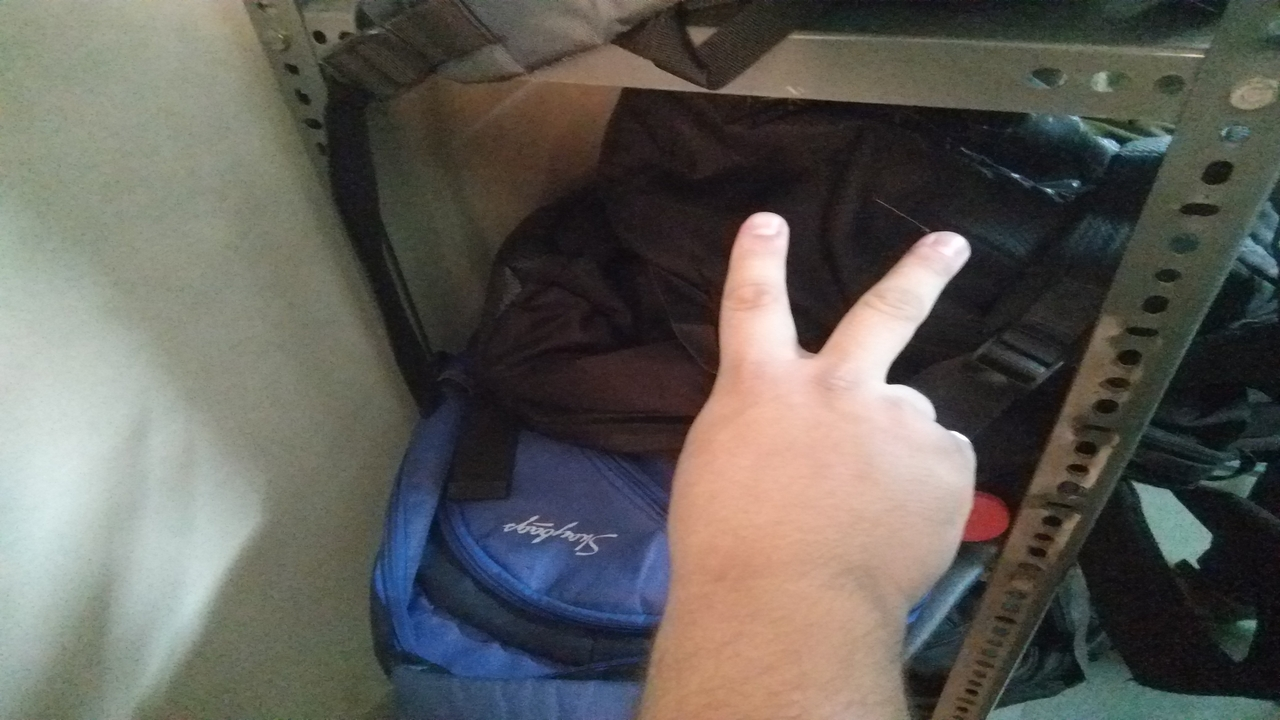fingertip: (900, 216, 984, 284), (726, 204, 798, 268)
